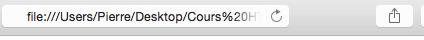button: (374, 2, 415, 30)
field: (1, 3, 291, 28)
